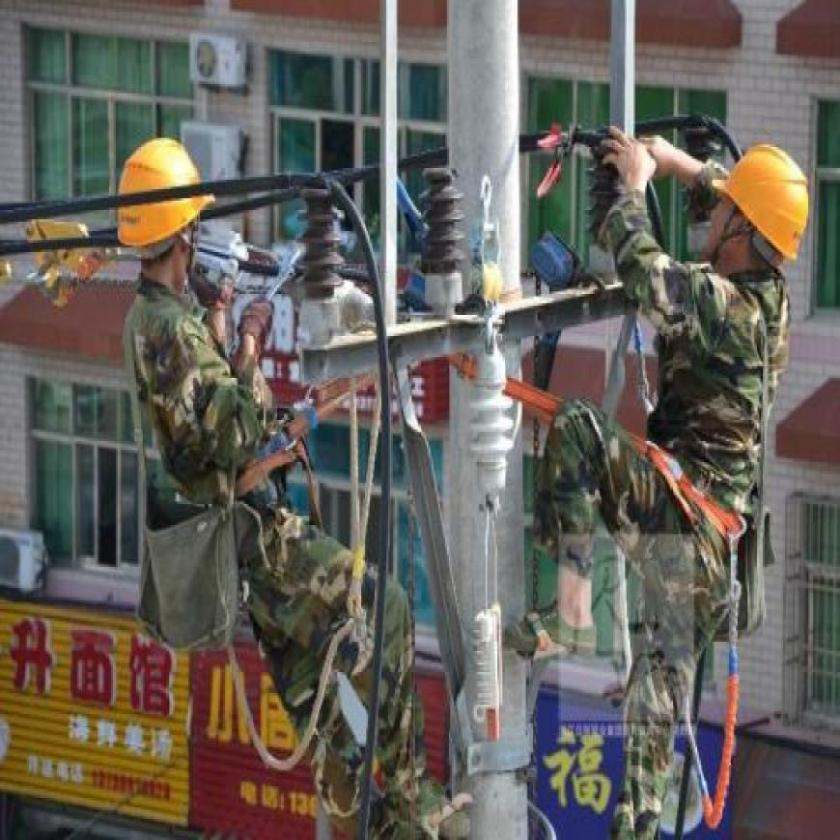Con_casco: (115, 137, 220, 290), (703, 142, 815, 283)
